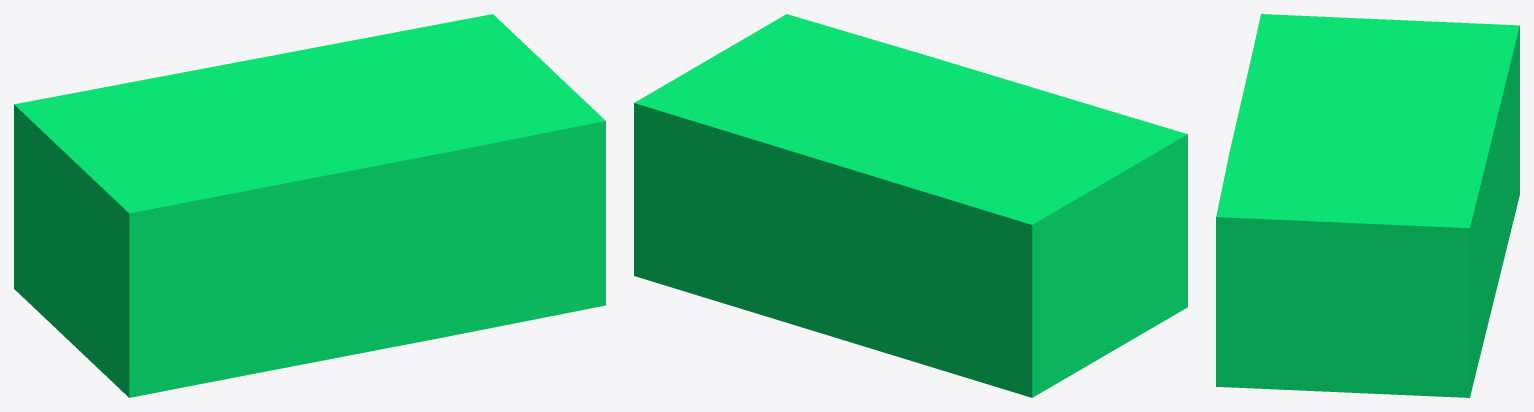
The model's file is DEHB01ALs0000fzU.gltf.
3 renders of one model, left to right at view 1: azimuth 30°, elevation 25°; view 2: azimuth 150°, elevation 25°; view 3: azimuth 270°, elevation 25°, orthographic. The views are drawn at different scales.
Parts seen in each view (by area): view 1: Z_UP; view 2: Z_UP; view 3: Z_UP.
Part boxes in pixels (<box>): Z_UP: <box>14,14,605,397</box>; Z_UP: <box>634,14,1187,397</box>; Z_UP: <box>1216,14,1519,397</box>.
Bounding box in the file's own units: 6.28 × 2.32 × 3.76.
